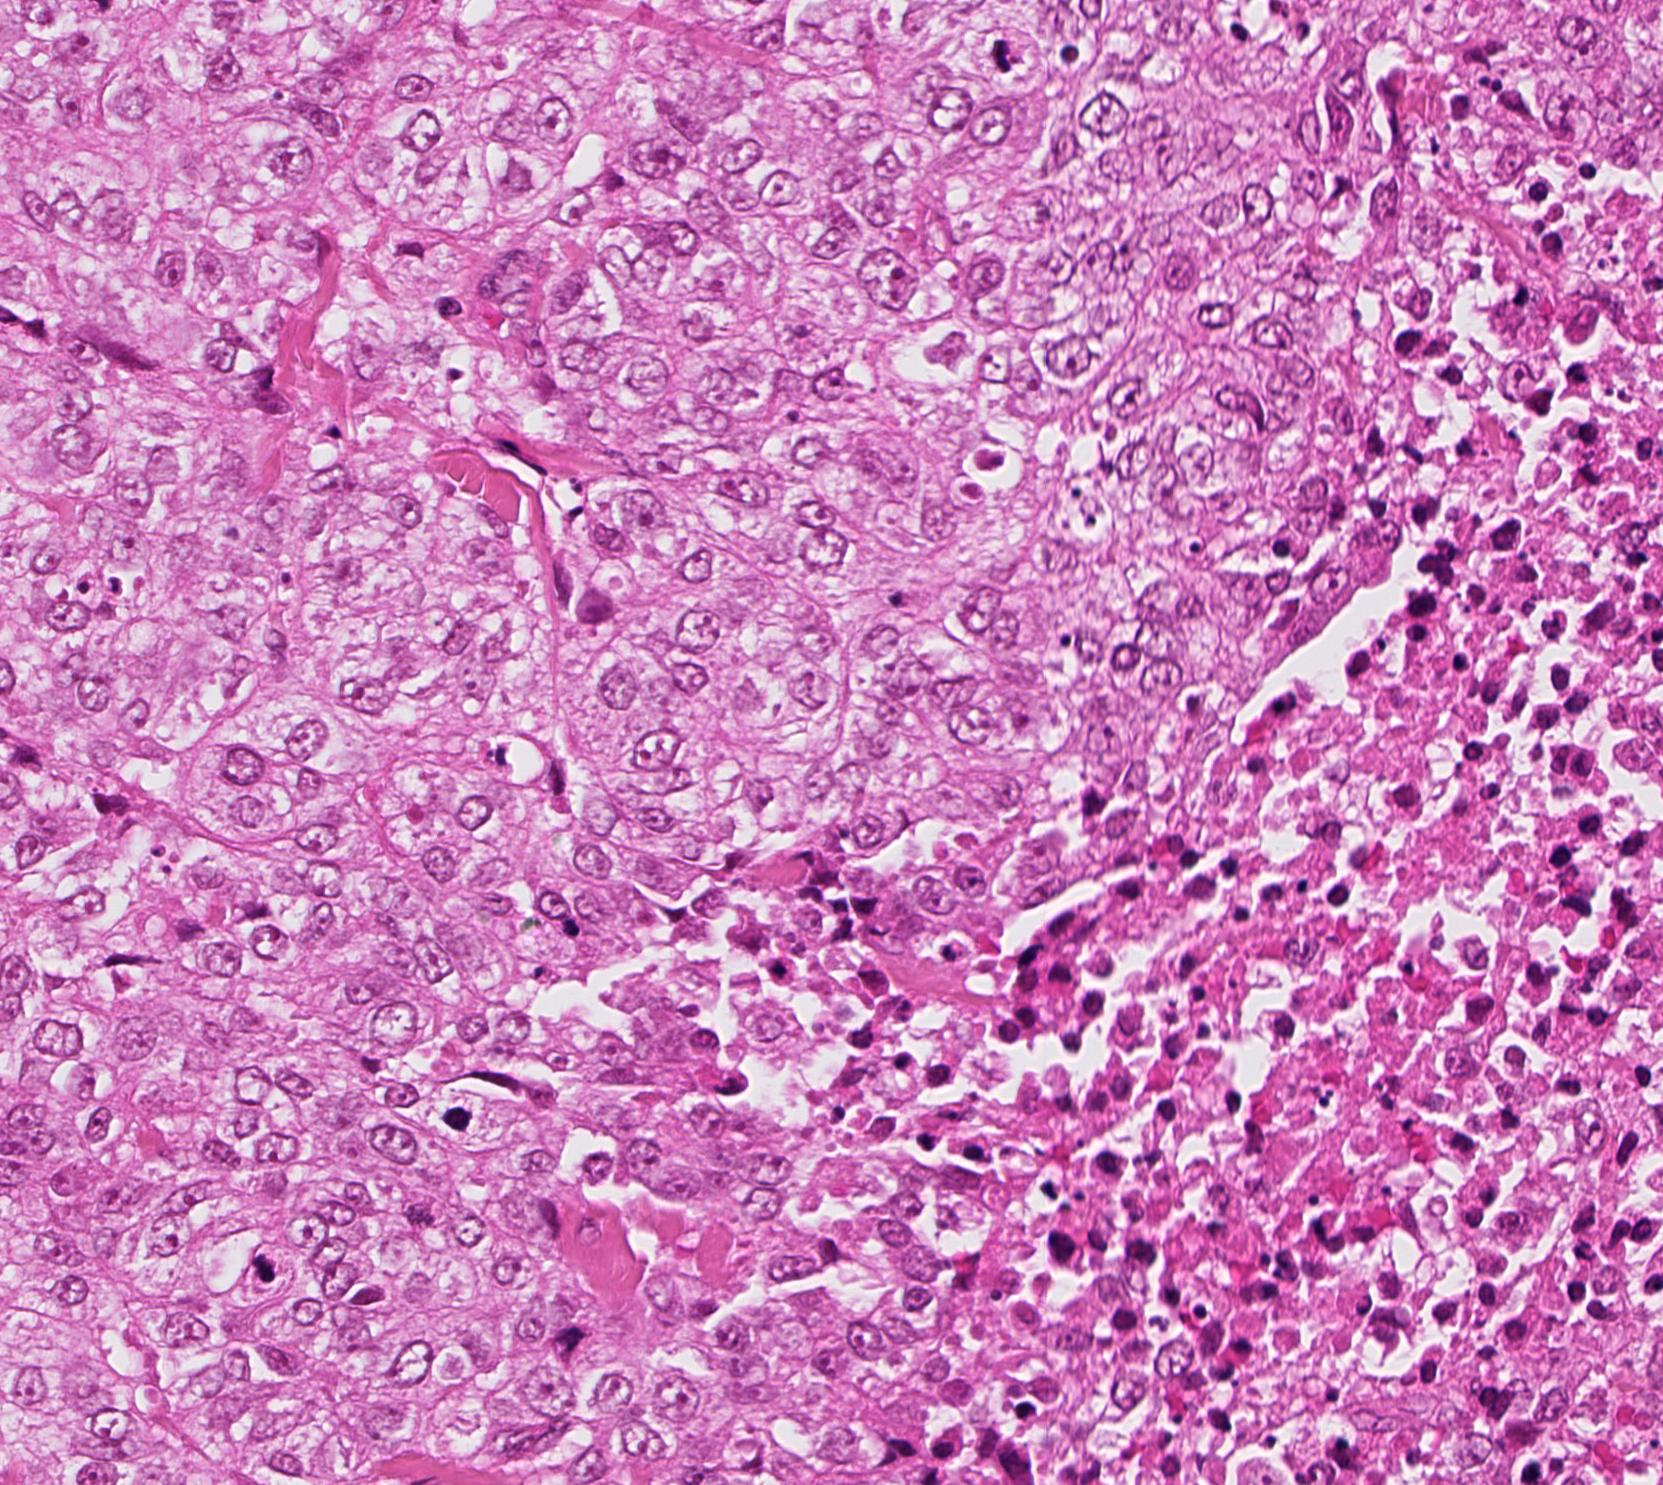mitosis: (239, 1231, 300, 1291), (424, 1085, 485, 1145), (972, 29, 1032, 87)
